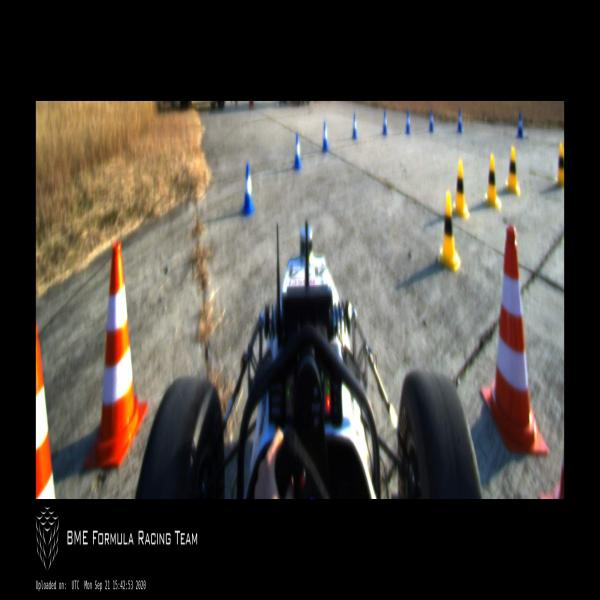blue_cone: (241, 163, 255, 218), (292, 133, 301, 170), (321, 121, 328, 153), (516, 114, 523, 138), (352, 114, 358, 140), (382, 110, 388, 136), (405, 110, 411, 136), (457, 109, 463, 132), (428, 110, 434, 132)
large_orange_cone: (481, 225, 549, 456), (81, 241, 147, 474), (36, 319, 55, 497)
yellow_cone: (438, 192, 460, 270), (452, 159, 470, 219), (483, 154, 501, 209), (505, 146, 520, 194), (555, 143, 564, 187)
